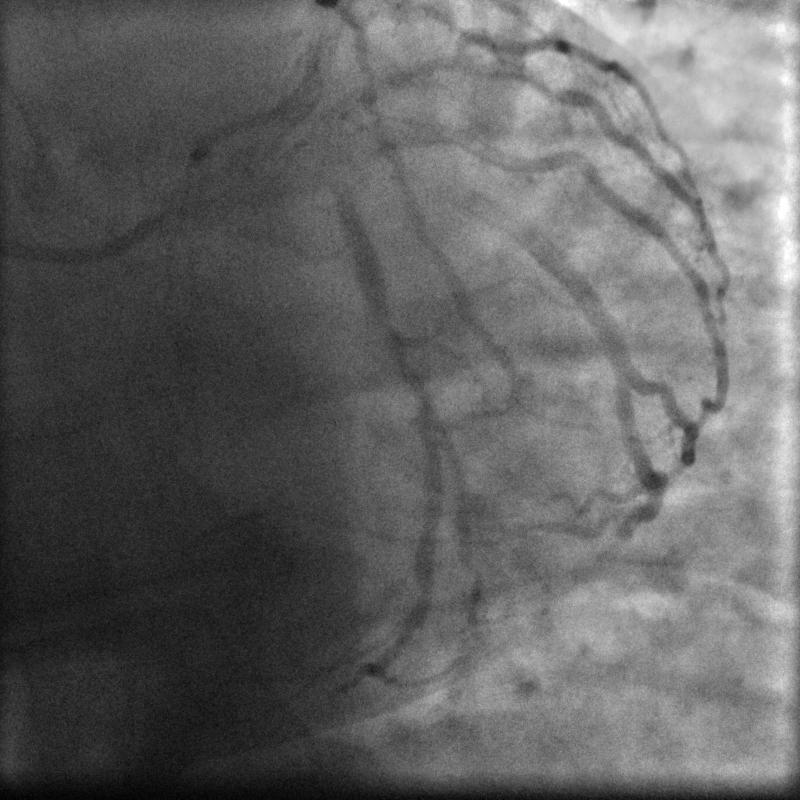Stenosis: (389, 328, 428, 414)
